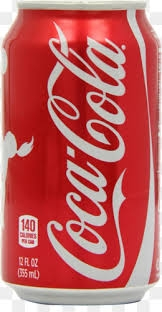metal: (1, 1, 162, 310)
